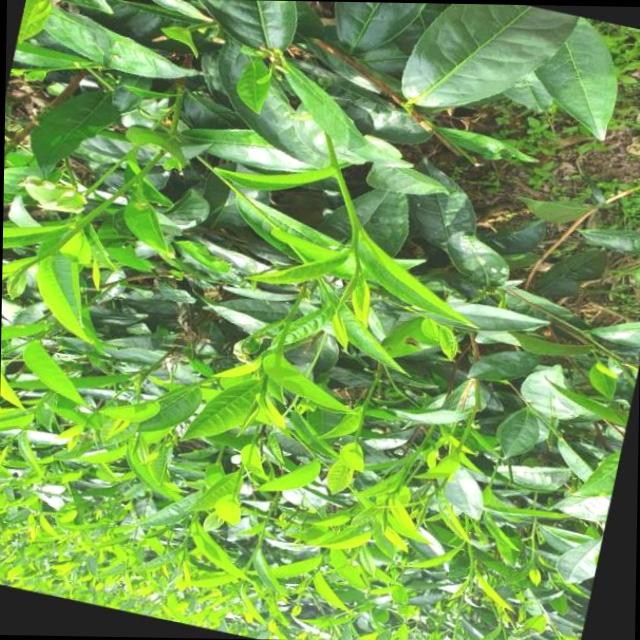Stem: (346, 208, 361, 227), (260, 377, 266, 390), (468, 551, 474, 564), (439, 477, 446, 487), (256, 533, 262, 544), (353, 430, 359, 440), (22, 422, 28, 428)
